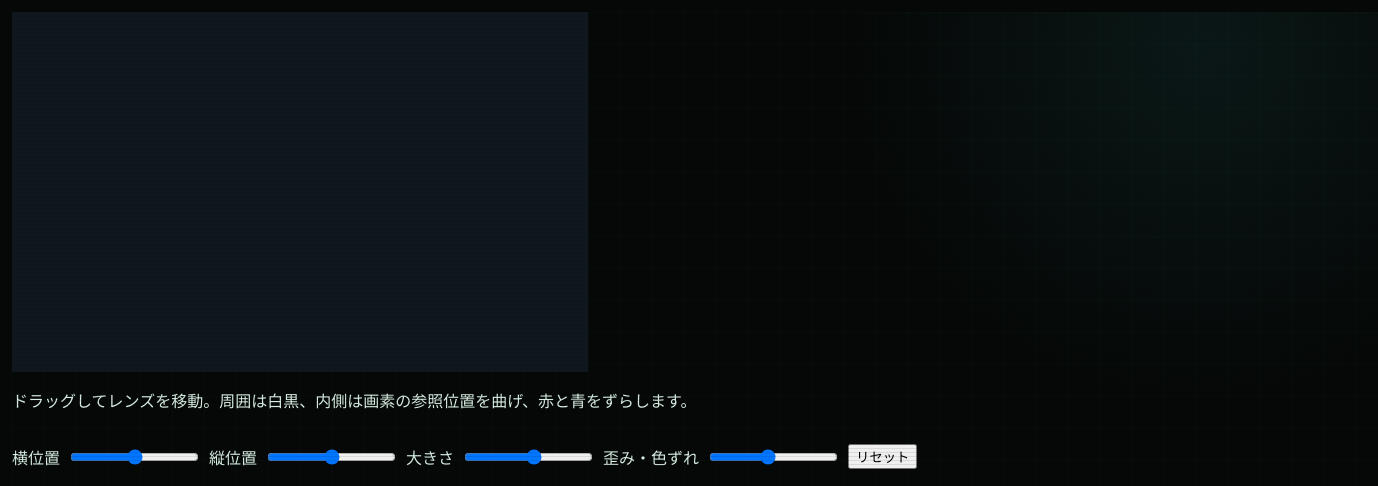
Test: lens › coalesces position changes and draws only a bounded color region, then resets
Set the slider labelled "横位置" to "5". click: [84, 456]
box: [70,448,199,464]
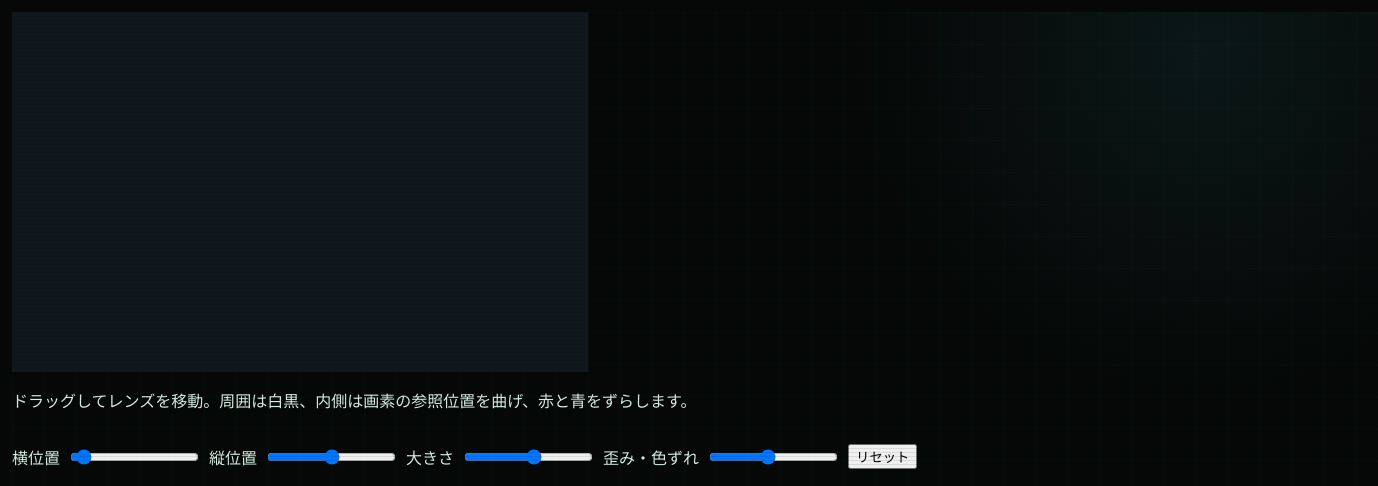
Set the slider labelled "横位置" to "95". click: [185, 456]
box: [70,448,199,464]
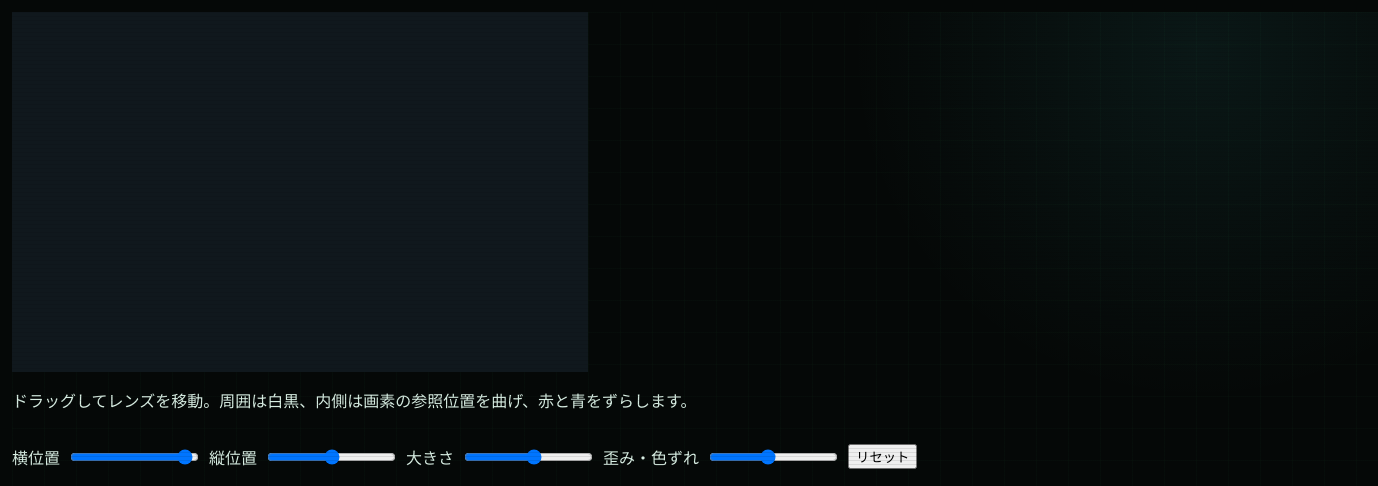
Click the button "リセット". click: [883, 456]
box: [848,444,917,469]
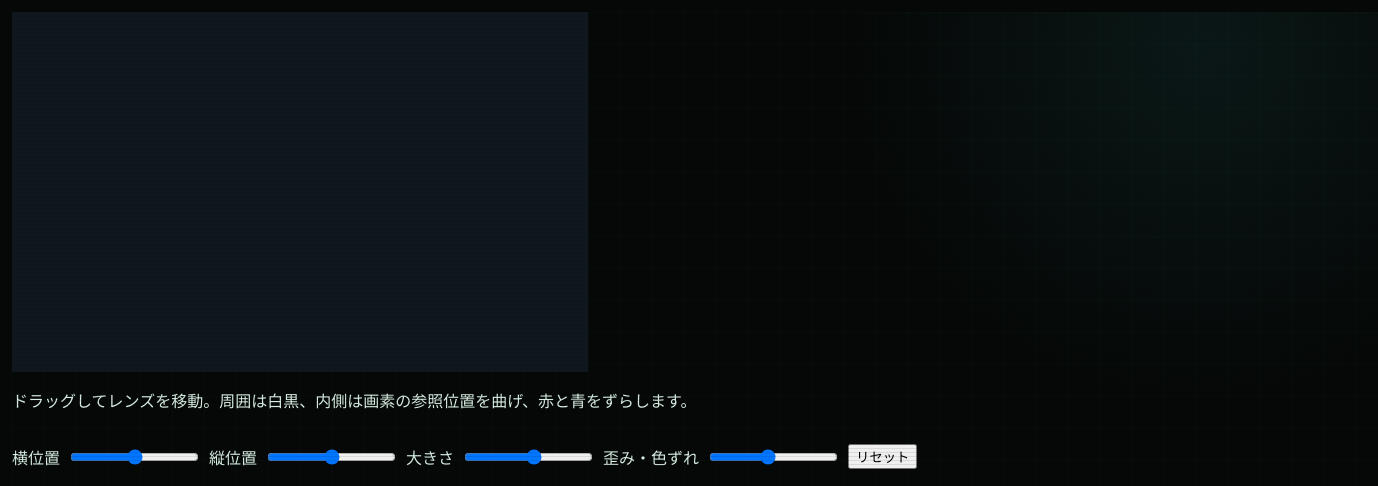
Expected: the slider labelled "横位置" holds "50", [70,448,199,464]
